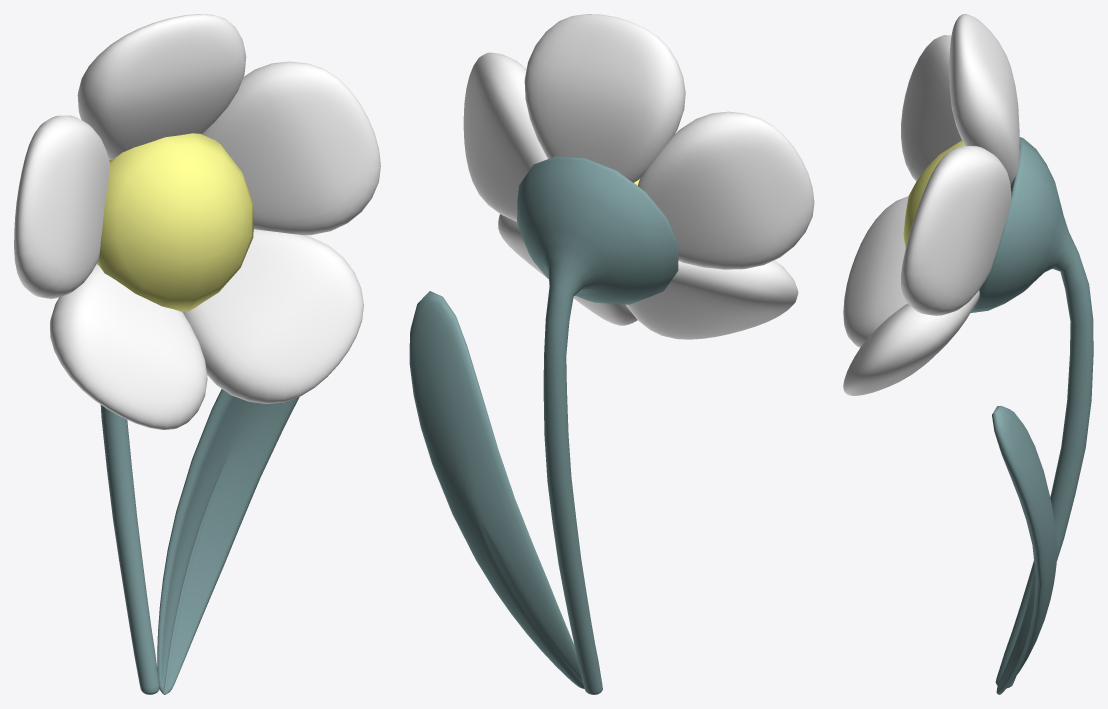
File: SM_20060FlorP.fbx
3 renders of one model, left to right at view 1: azimuth 30°, elevation 25°; view 2: azimuth 150°, elevation 25°; view 3: azimuth 270°, elevation 25°, orthographic. The views are drawn at different scales.
Parts seen in each view (by area): view 1: SM_20060FlorP_geo_1; view 2: SM_20060FlorP_geo_1; view 3: SM_20060FlorP_geo_1.
Boxes of the visible parts, x1,y1,x2,y2 form: SM_20060FlorP_geo_1: (14,14,380,694); SM_20060FlorP_geo_1: (409,14,814,694); SM_20060FlorP_geo_1: (843,14,1093,694).
Size of the model in its own units: 17.16 by 30.55 by 10.47.
